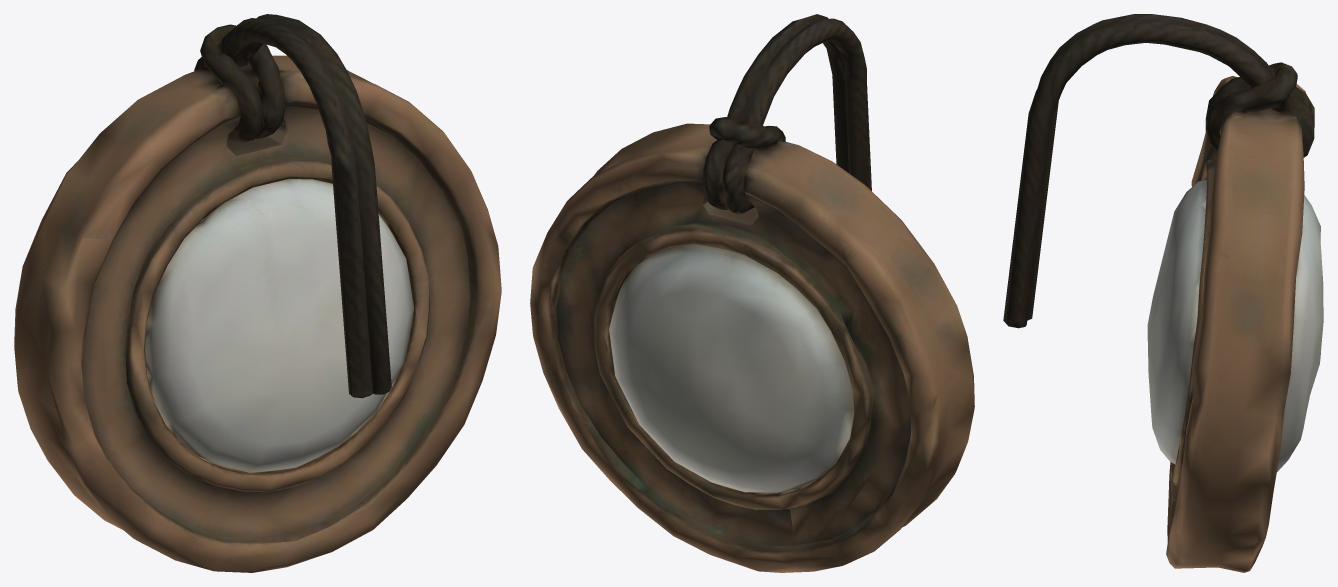
The model's file is talisman.glb.
The picture shows the model from 3 angles, left to right: view 1: azimuth 30°, elevation 25°; view 2: azimuth 150°, elevation 25°; view 3: azimuth 270°, elevation 25°; orthographic projection. The views are drawn at different scales.
Parts seen in each view (by area): view 1: weapon; view 2: weapon; view 3: weapon.
Part boxes in pixels (x1,y1,x2,y2): weapon: (14, 14, 501, 572); weapon: (530, 14, 974, 572); weapon: (1003, 14, 1323, 572).
Bounding box in the file's own units: 0.8476 × 1 × 0.5481.
1 material, 1 textured.
